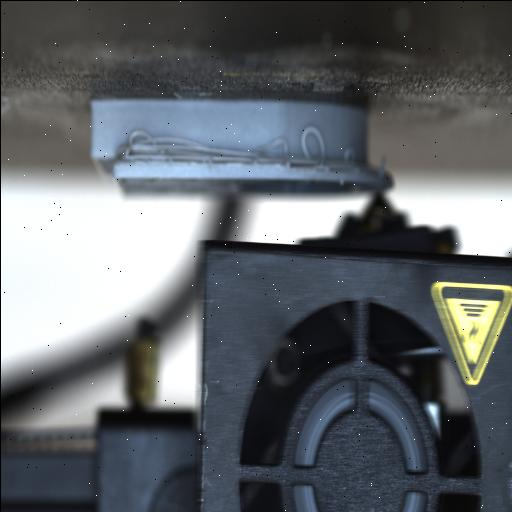layer_shift: (82, 140, 398, 184)
